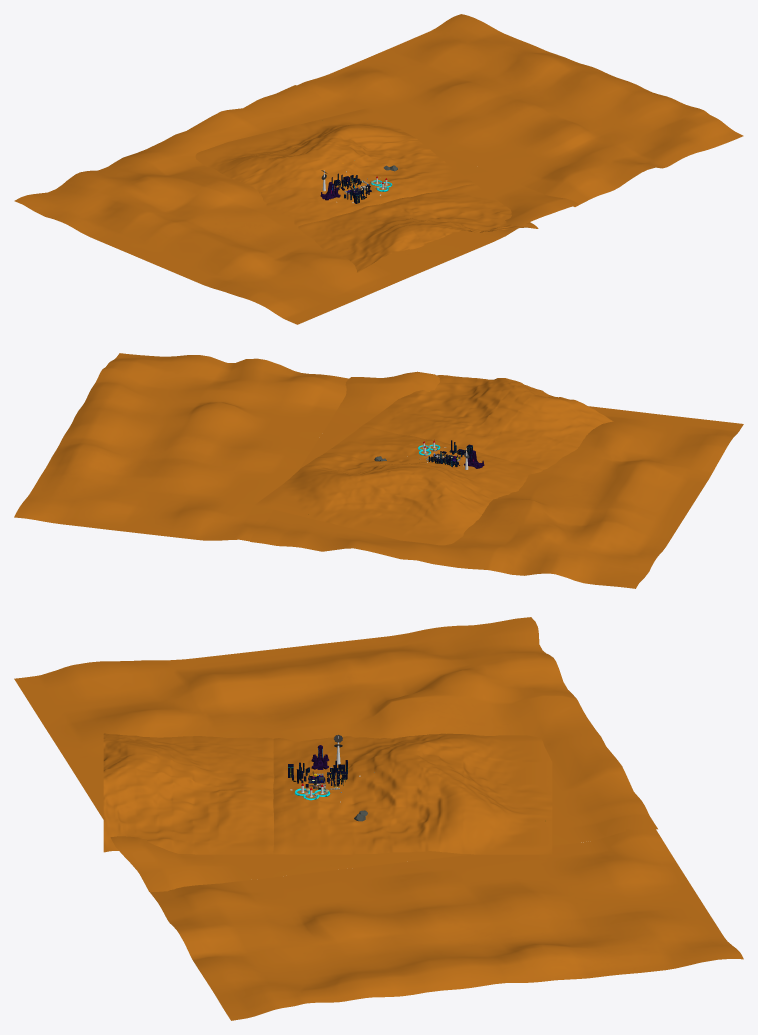
File: City_5.glb
3 renders of one model, top to bottom at view 1: azimuth 30°, elevation 25°; view 2: azimuth 150°, elevation 25°; view 3: azimuth 270°, elevation 25°, orthographic. The views are drawn at different scales.
Visible parts, largest first — view 1: pPlane6, pPlane4; view 2: pPlane6, pPlane4; view 3: pPlane6, pPlane4.
Part boxes in pixels (<box>): pPlane6: <box>14,14,743,324</box>; pPlane4: <box>195,107,538,272</box>; pPlane6: <box>14,353,743,588</box>; pPlane4: <box>255,375,613,545</box>; pPlane6: <box>14,617,743,1020</box>; pPlane4: <box>103,733,552,854</box>.
Size of the model in its own units: 39.36 by 1.89 by 30.35.
Materials: 48 (2 with a texture image).
